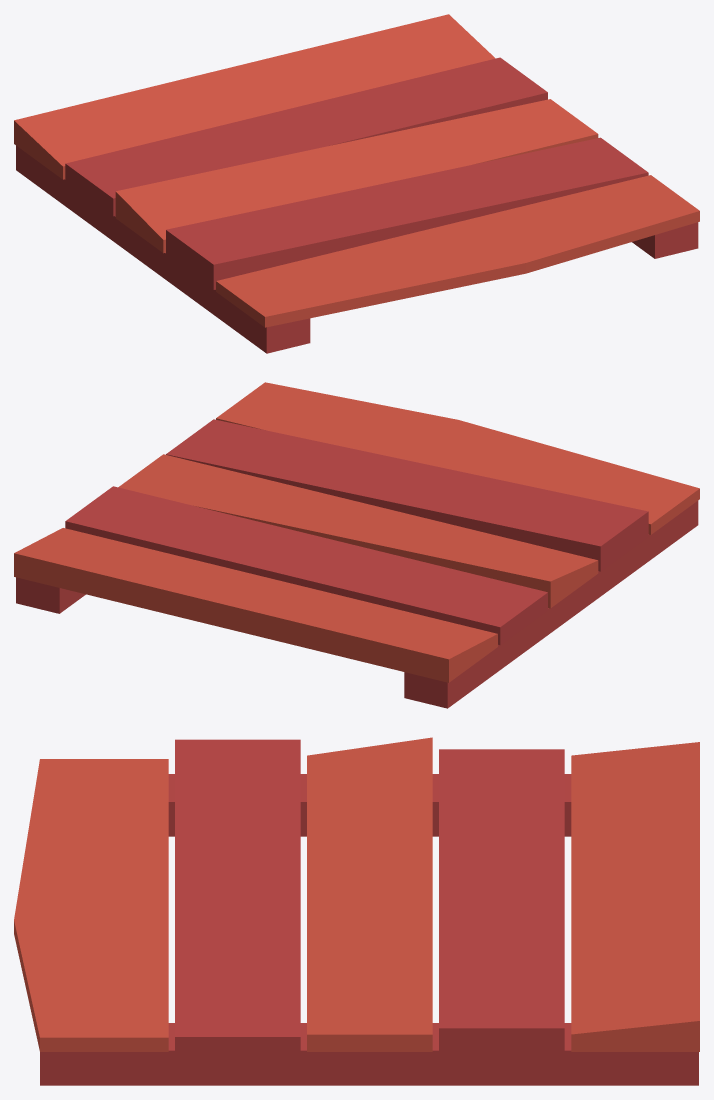
Rendered from PortWoodFloor_C.fbx.
3 views of the same model, one above another, from view 1: azimuth 30°, elevation 25°; view 2: azimuth 150°, elevation 25°; view 3: azimuth 270°, elevation 25° (orthographic). The views are drawn at different scales.
Parts seen in each view (by area): view 1: PortWoodFloor_C; view 2: PortWoodFloor_C; view 3: PortWoodFloor_C.
Boxes of the visible parts, left/top/right/bottom form: PortWoodFloor_C: left=14, top=14, right=699, bottom=353; PortWoodFloor_C: left=14, top=382, right=699, bottom=708; PortWoodFloor_C: left=14, top=737, right=699, bottom=1085.
Bounding box in the file's own units: 94.89 × 11.15 × 98.63.
Materials: 1 (1 with a texture image).
